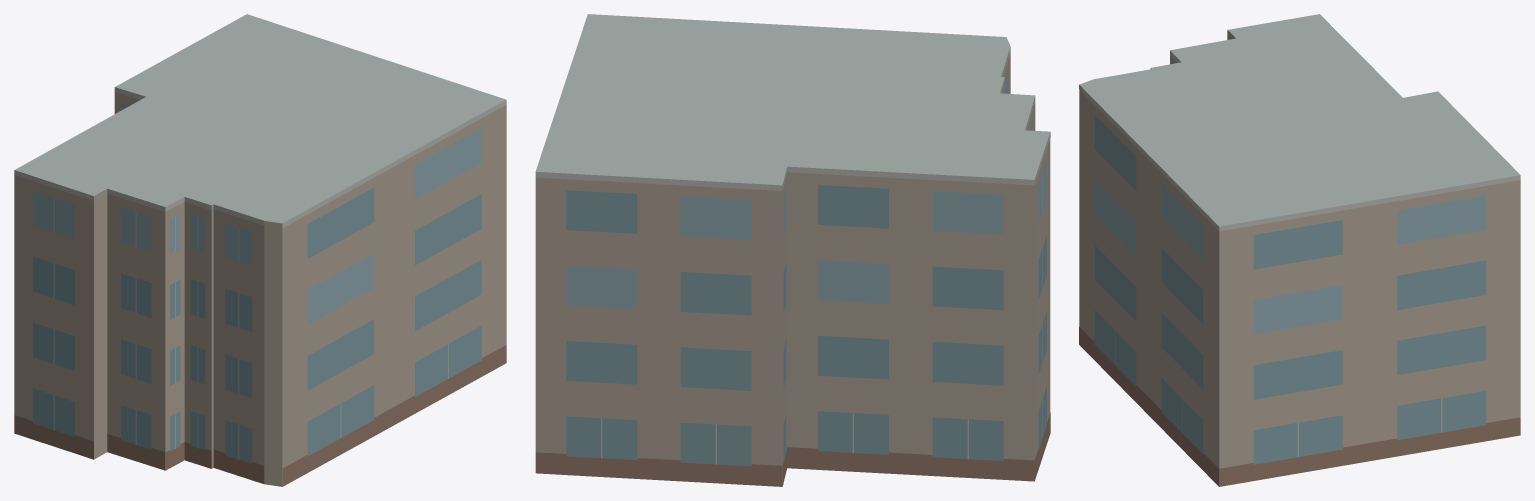
The model's file is survey-upis-32928331.glb.
The picture shows the model from 3 angles, left to right: view 1: azimuth 30°, elevation 25°; view 2: azimuth 150°, elevation 25°; view 3: azimuth 270°, elevation 25°; orthographic projection. The views are drawn at different scales.
Parts seen in each view (by area): view 1: survey-upis-32928331.tmp; view 2: survey-upis-32928331.tmp; view 3: survey-upis-32928331.tmp.
Part boxes in pixels (x1,y1,x2,y2): survey-upis-32928331.tmp: (14,14,506,486); survey-upis-32928331.tmp: (535,14,1050,486); survey-upis-32928331.tmp: (1079,14,1520,486).
Bounding box in the file's own units: 22.66 × 12.93 × 19.88.
